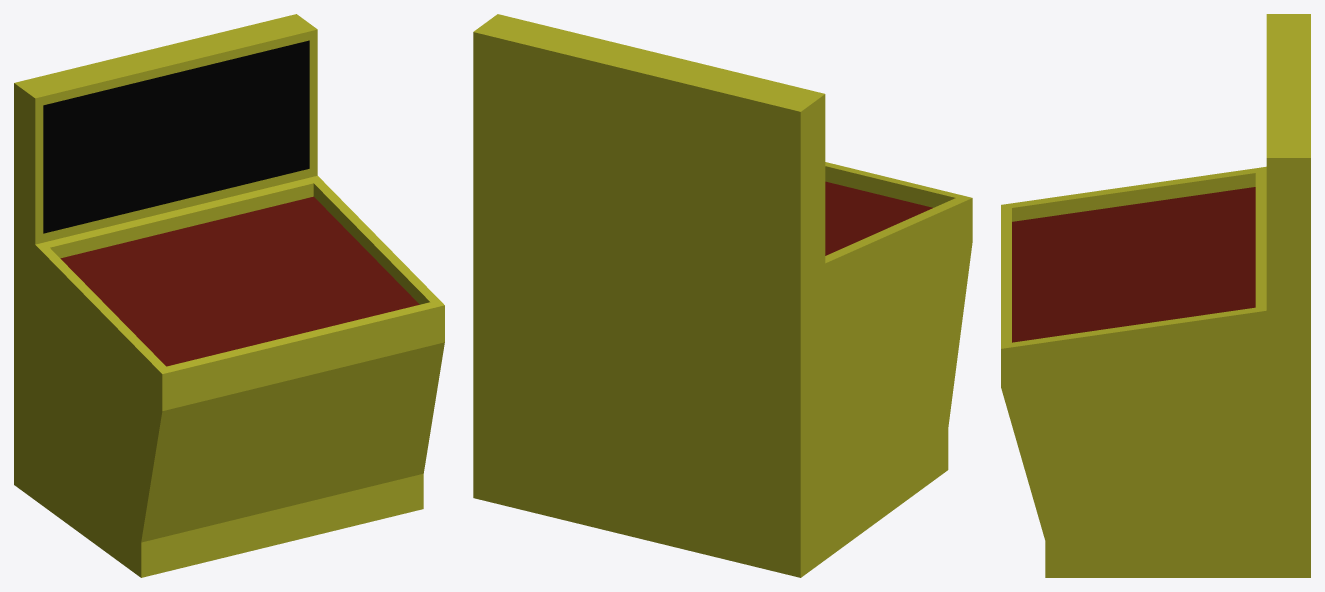
Rendered from WhackMachineR2.fbx.
3 views of the same model, side by side, from view 1: azimuth 30°, elevation 25°; view 2: azimuth 150°, elevation 25°; view 3: azimuth 270°, elevation 25° (orthographic). The views are drawn at different scales.
Visible parts, largest first — view 1: WhackMachine; view 2: WhackMachine; view 3: WhackMachine.
Boxes of the visible parts, box(x1,y1,x2,y2) form: WhackMachine: box(14, 14, 444, 577); WhackMachine: box(473, 14, 972, 577); WhackMachine: box(1001, 14, 1310, 577).
Size of the model in its own units: 1.1 by 1.5 by 1.
